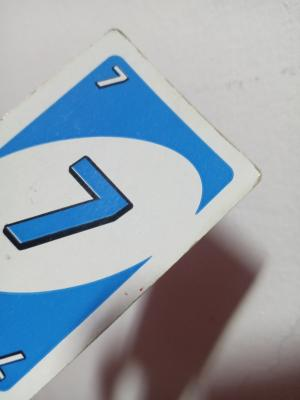blue: (4, 73, 156, 321)
num_7: (93, 61, 132, 95)
